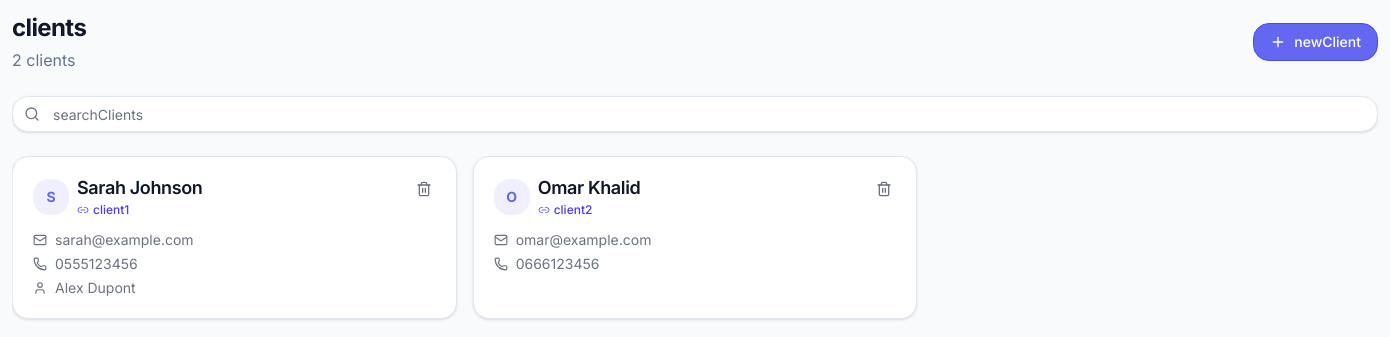
Test: Clients page › filters clients by search
This screenshot has width=1390, height=337.
Type "Sarah" into the field with placeholder "searchClients".
click(695, 114); type("Sarah")  # box [12,96,1378,132]
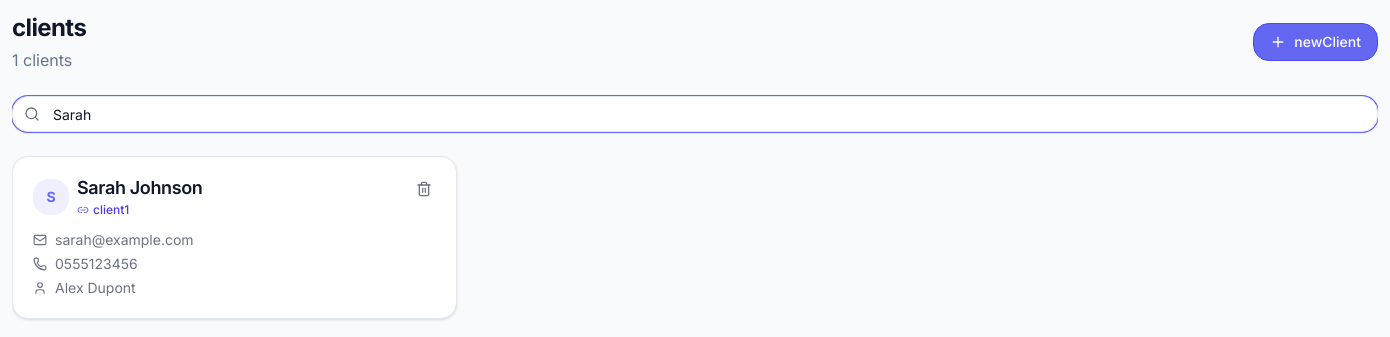
Expected: the heading "Sarah Johnson" is shown, [77,177,202,200]
Result: the link "Omar Khalid" is gone
